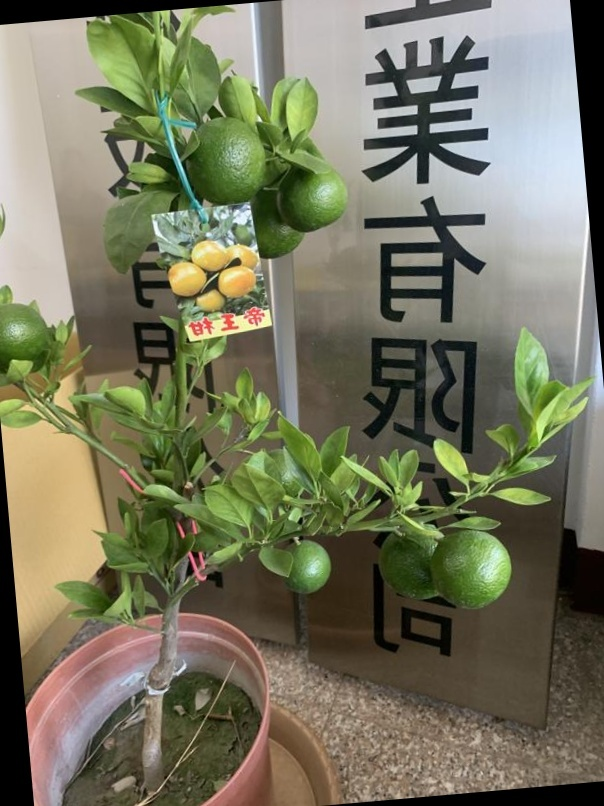Tangerine: (184, 116, 270, 204), (432, 528, 515, 610), (375, 524, 453, 603), (275, 158, 348, 232), (0, 300, 54, 376), (275, 537, 332, 593)
